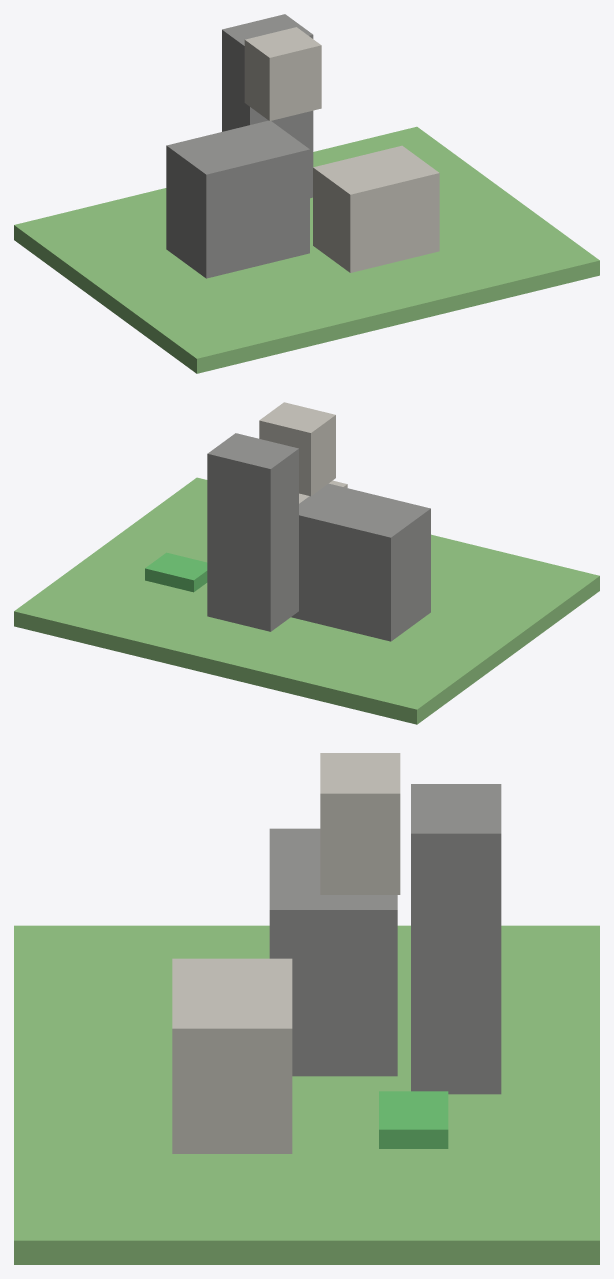
The model's file is voxel-beijing-rockery.gltf.
3 renders of one model, top to bottom at view 1: azimuth 30°, elevation 25°; view 2: azimuth 150°, elevation 25°; view 3: azimuth 270°, elevation 25°, orthographic. The views are drawn at different scales.
Size of the model in its own units: 2.8 by 1.36 by 2.2.
